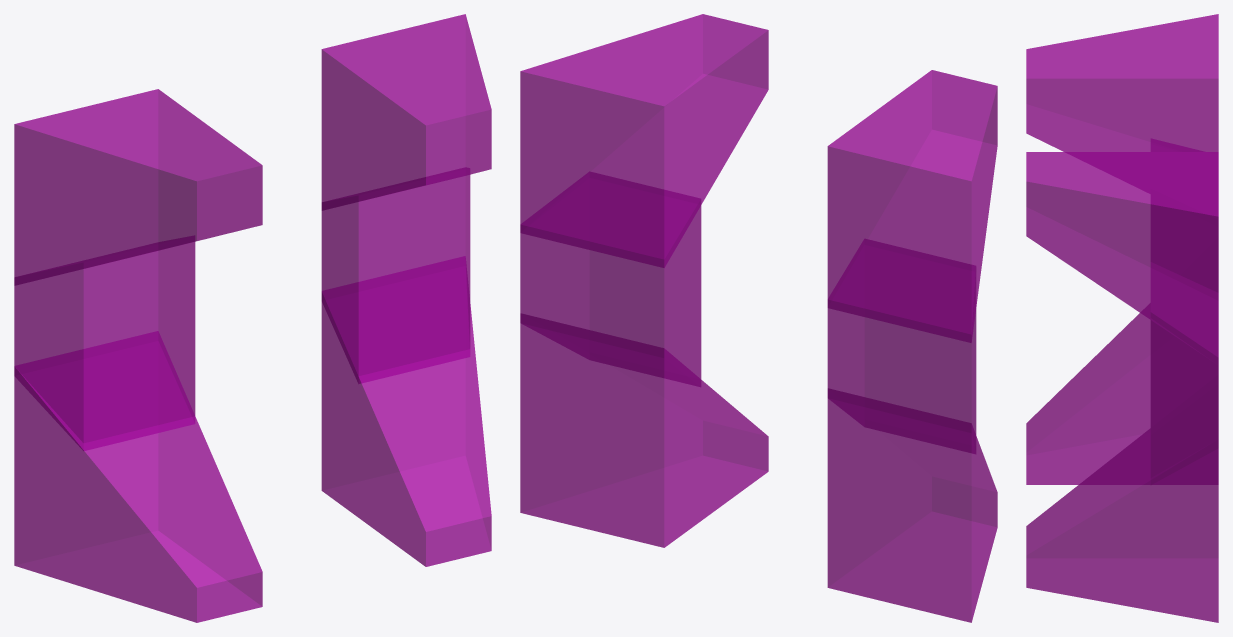
The model's file is SM_Bld_Wall_Reactor_Door_01_Collision.fbx.
3 views of the same model, side by side, from view 1: azimuth 30°, elevation 25°; view 2: azimuth 150°, elevation 25°; view 3: azimuth 270°, elevation 25° (orthographic). The views are drawn at different scales.
Parts seen in each view (by area): view 1: SM_Bld_Wall_Reactor_Door_01_Collision; view 2: SM_Bld_Wall_Reactor_Door_01_Collision; view 3: SM_Bld_Wall_Reactor_Door_01_Collision.
Part boxes in pixels (box(x1,y1,x2,y2)): SM_Bld_Wall_Reactor_Door_01_Collision: box(14, 14, 491, 622); SM_Bld_Wall_Reactor_Door_01_Collision: box(520, 14, 997, 622); SM_Bld_Wall_Reactor_Door_01_Collision: box(1026, 14, 1218, 622).
Size of the model in its own units: 325 by 304 by 130.
